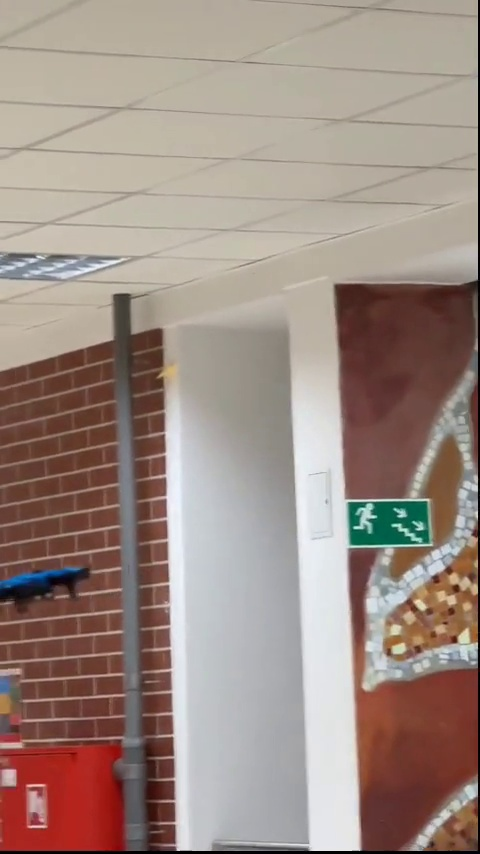drone: (3, 565, 94, 611)
